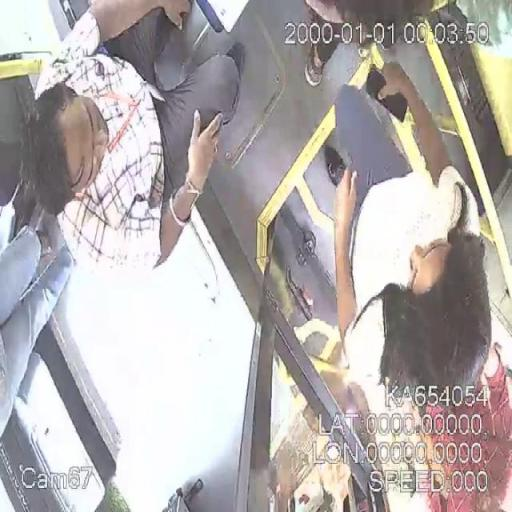persona: (324, 59, 493, 412), (29, 1, 244, 273), (0, 225, 110, 430)
